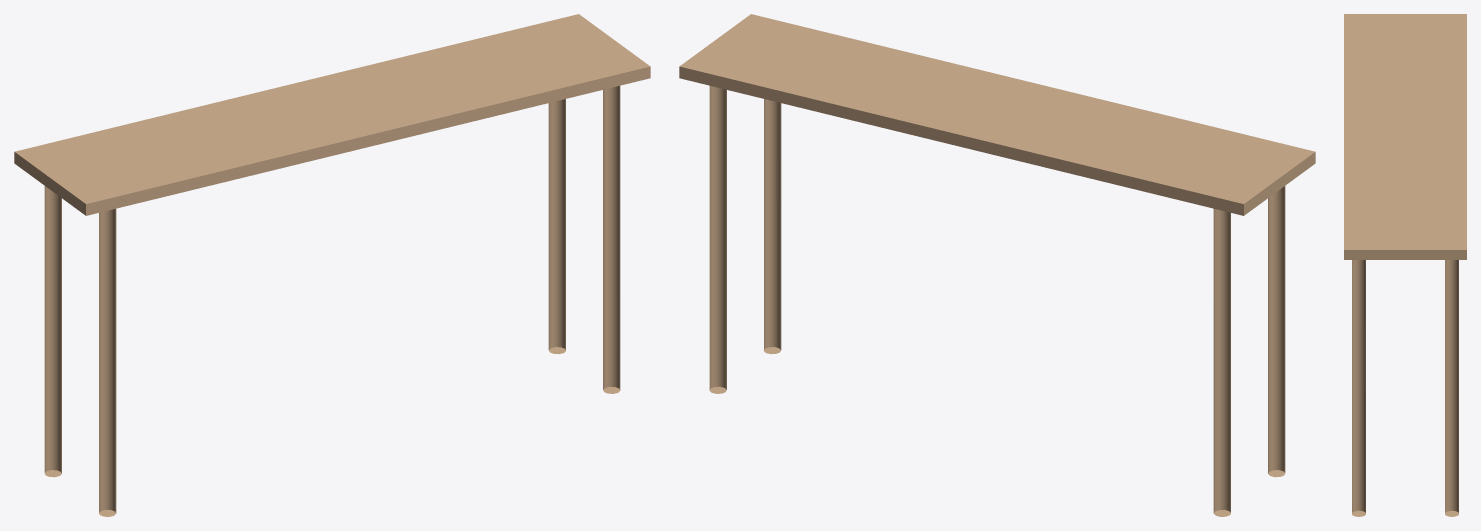
Rendered from console_table_06.glb.
3 views of the same model, side by side, from view 1: azimuth 30°, elevation 25°; view 2: azimuth 150°, elevation 25°; view 3: azimuth 270°, elevation 25° (orthographic). The views are drawn at different scales.
Bounding box in the file's own units: 1.5 × 0.82 × 0.33.
